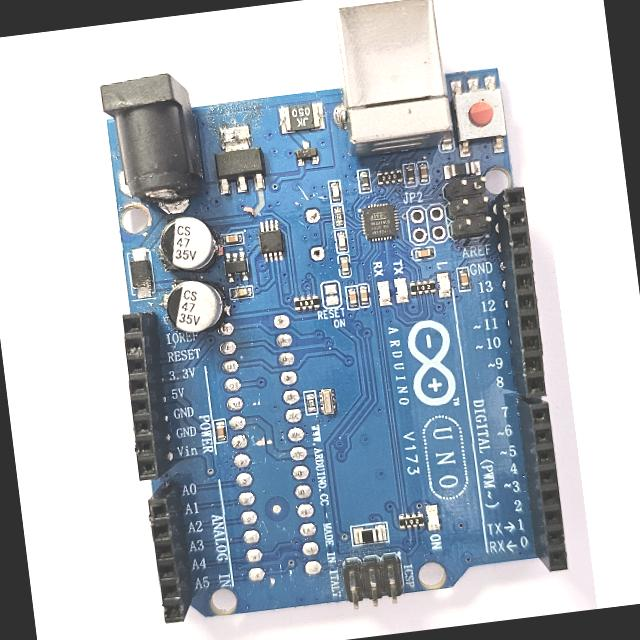missing_atmega: (216, 308, 328, 587)
missing_crystal_os: (300, 202, 332, 271)
